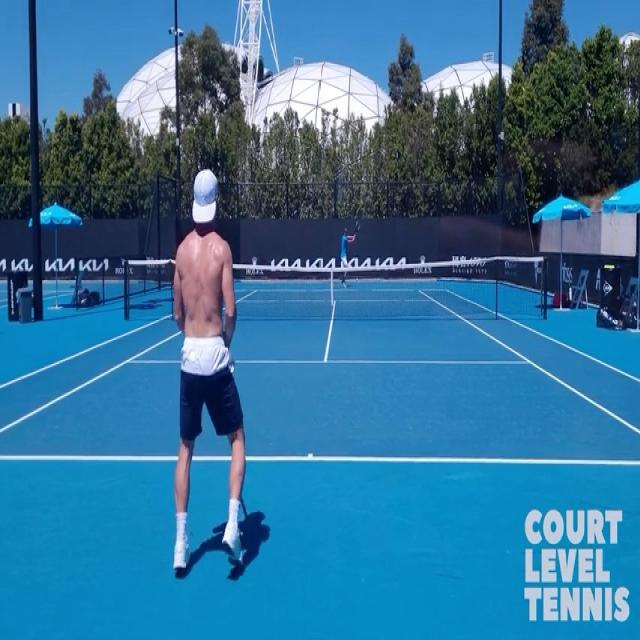ready-position: (172, 167, 248, 574)
